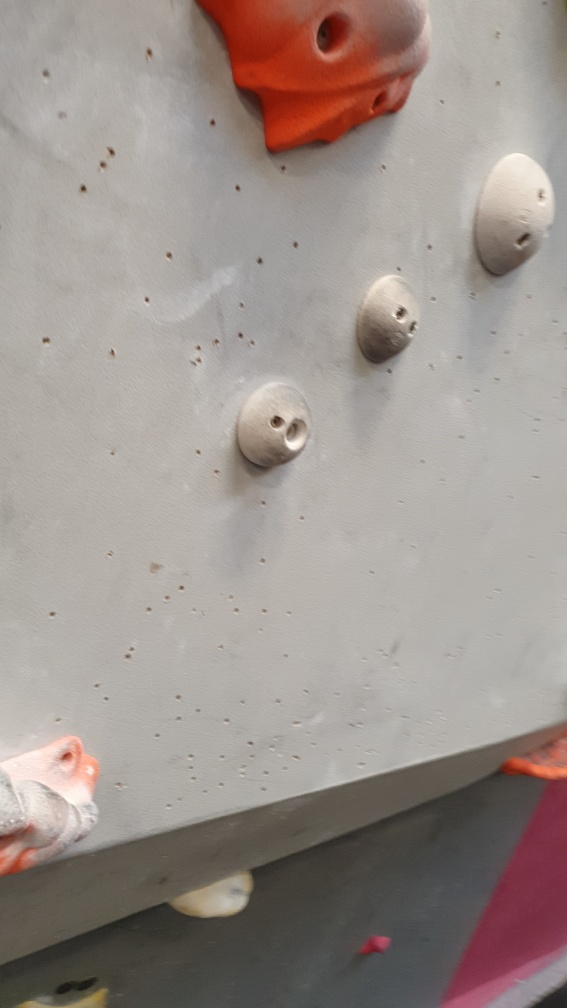Jug: (1, 731, 106, 881), (490, 723, 567, 791)
Sloper: (467, 155, 559, 278), (233, 378, 314, 471), (351, 273, 419, 365)
